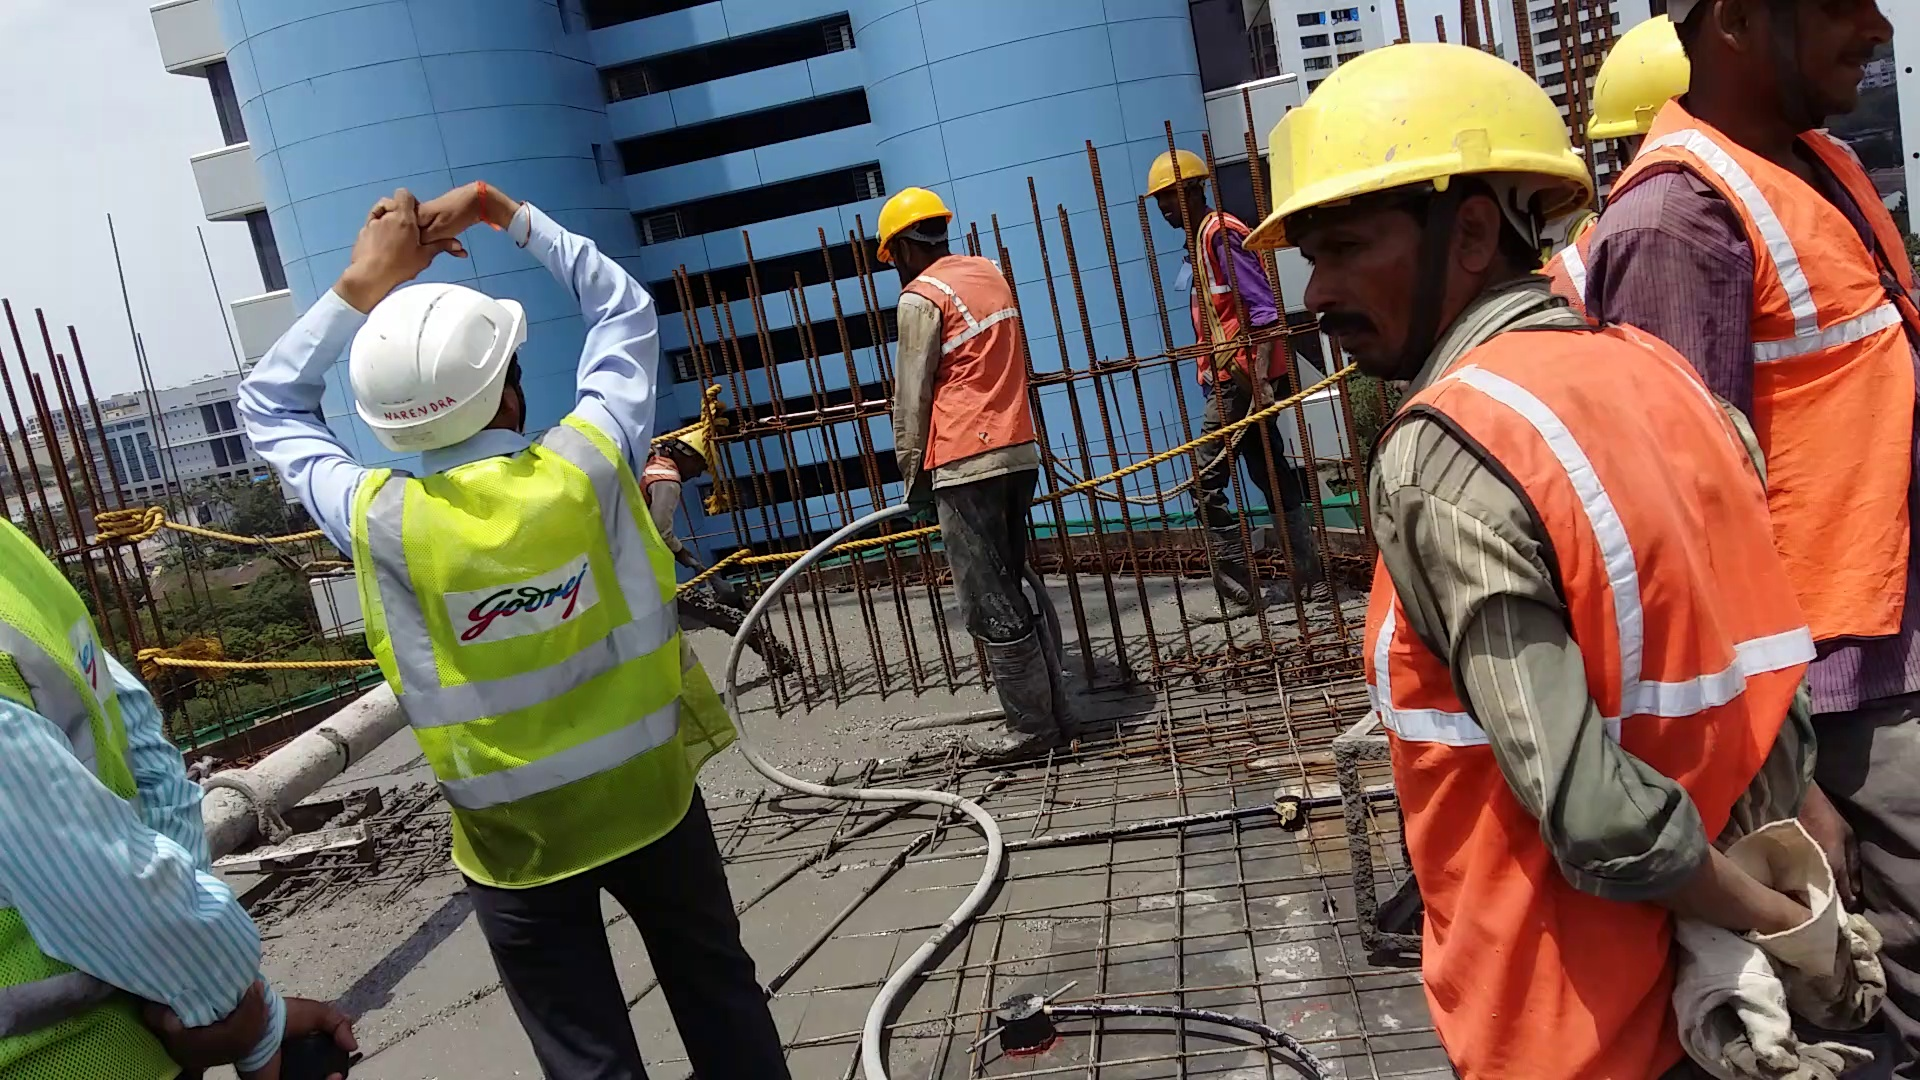SAFE: (1270, 37, 1784, 1080), (344, 277, 679, 856), (872, 186, 1044, 479)
